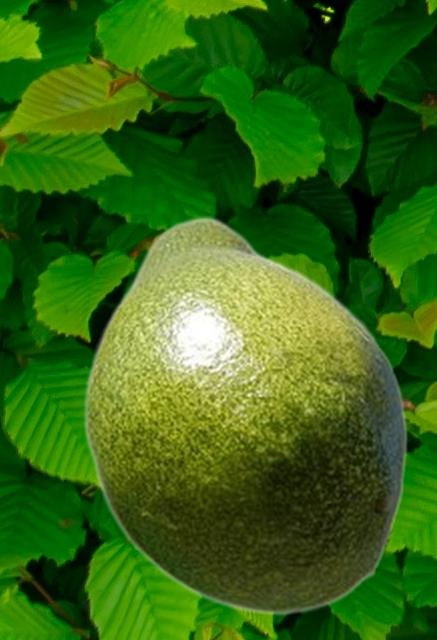avocado: (82, 216, 407, 616)
